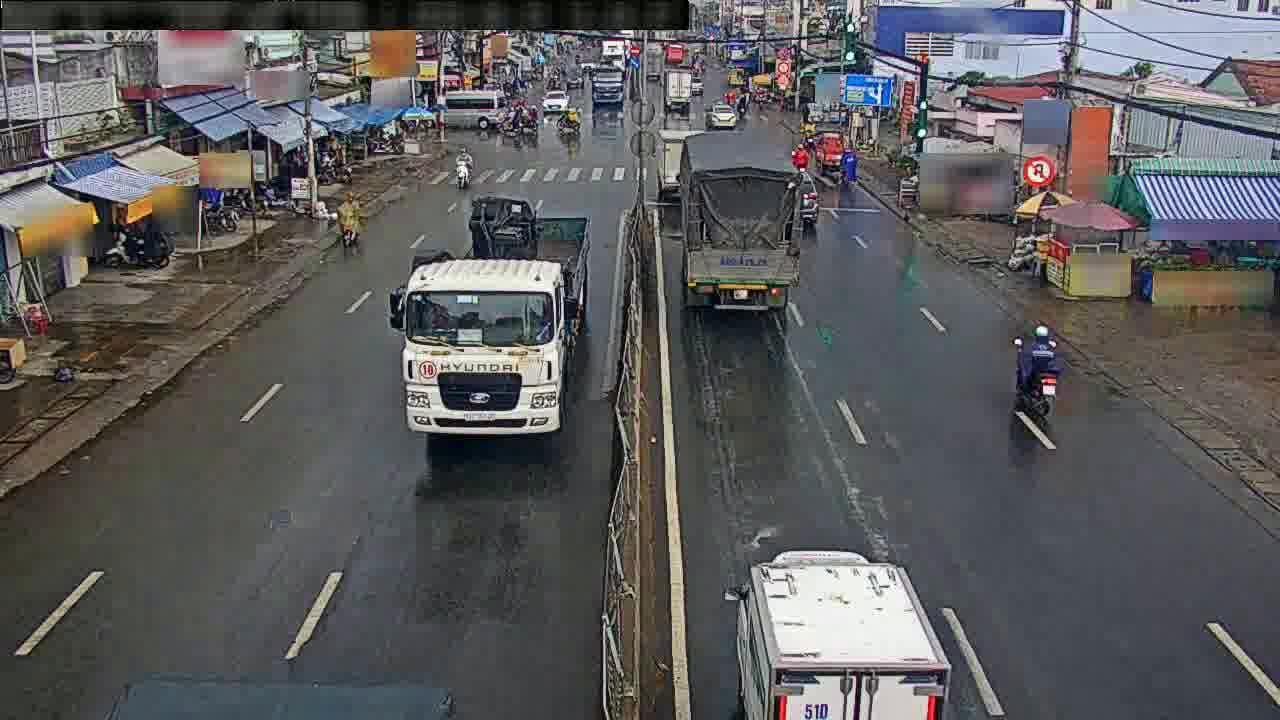container: (401, 197, 574, 438), (719, 545, 951, 720), (676, 127, 808, 322)
motorbike: (1004, 315, 1068, 423), (321, 190, 376, 258), (835, 143, 861, 190), (784, 134, 815, 173), (448, 145, 474, 186)
